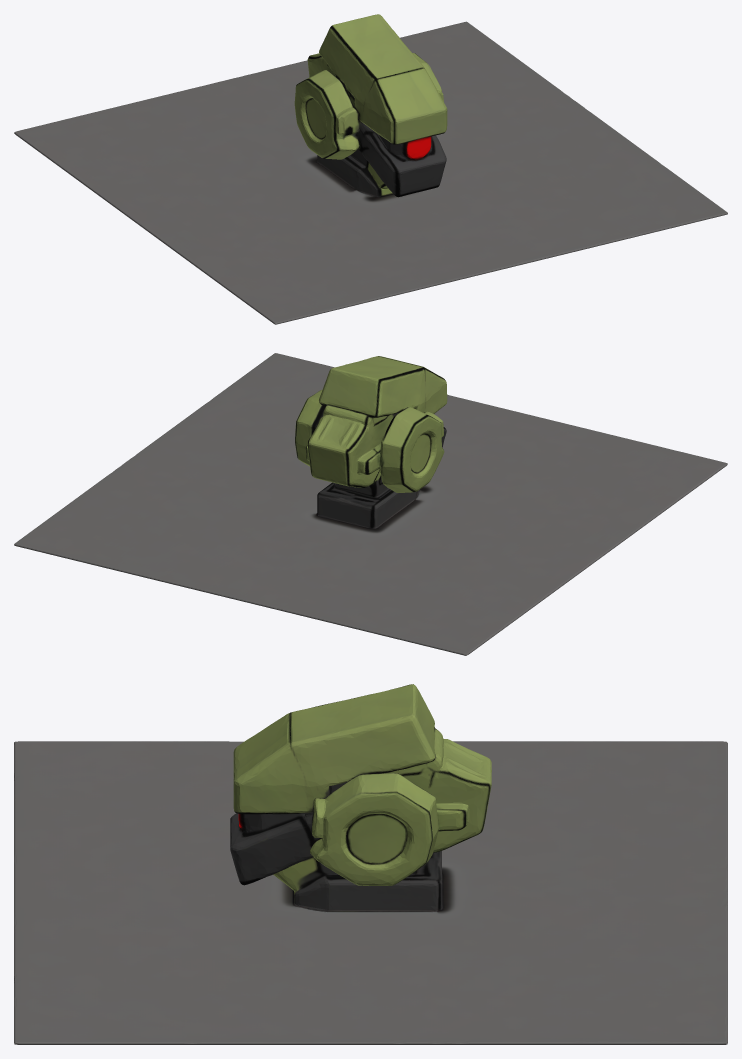
The model's file is head.glb.
The picture shows the model from 3 angles, top to bottom: view 1: azimuth 30°, elevation 25°; view 2: azimuth 150°, elevation 25°; view 3: azimuth 270°, elevation 25°; orthographic projection. The views are drawn at different scales.
Parts seen in each view (by area): view 1: geometry_0; view 2: geometry_0; view 3: geometry_0.
Boxes of the visible parts, <box> form: geometry_0: <box>14,14,727,324</box>; geometry_0: <box>14,353,727,655</box>; geometry_0: <box>14,684,727,1044</box>.
Bounding box in the file's own units: 1 × 0.3057 × 1.
Materials: 1 (1 with a texture image).
